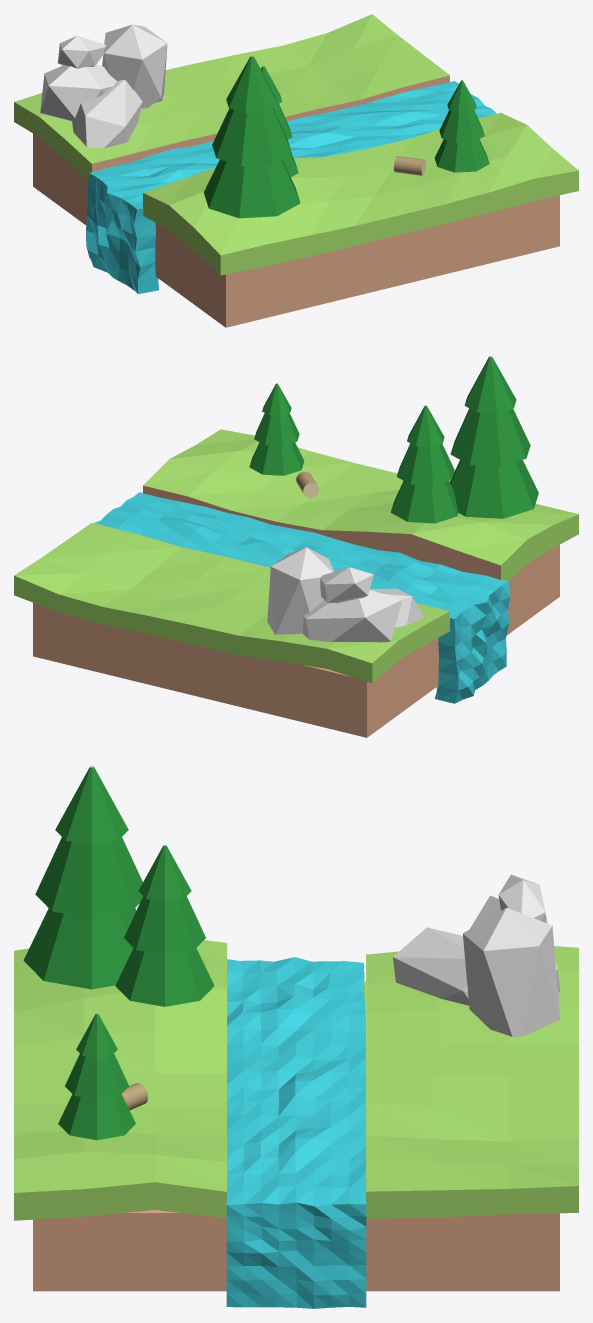
The model's file is campfire.glb.
3 views of the same model, one above another, from view 1: azimuth 30°, elevation 25°; view 2: azimuth 150°, elevation 25°; view 3: azimuth 270°, elevation 25° (orthographic). The views are drawn at different scales.
Parts seen in each view (by area): view 1: Cube, Cube.003, Icosphere.002, Icosphere.001, Cube.002, Icosphere, Icosphere.003, Cube.001, Cylinder; view 2: Cube, Cube.003, Cube.001, Icosphere.002, Icosphere, Cube.002, Icosphere.003, Icosphere.001; view 3: Cube, Cube.003, Icosphere.002, Cube.001, Cube.002, Icosphere.001, Icosphere.003.
Boxes of the visible parts, bbox=[...] form: Cube: bbox=[14, 14, 578, 327]; Cube.003: bbox=[204, 55, 300, 218]; Icosphere.002: bbox=[102, 24, 167, 108]; Icosphere.001: bbox=[72, 80, 142, 148]; Cube.002: bbox=[434, 80, 489, 172]; Icosphere: bbox=[40, 64, 116, 121]; Icosphere.003: bbox=[57, 35, 105, 68]; Cube.001: bbox=[261, 65, 298, 176]; Cylinder: bbox=[394, 156, 425, 175]; Cube: bbox=[14, 429, 578, 737]; Cube.003: bbox=[450, 356, 538, 518]; Cube.001: bbox=[390, 405, 458, 523]; Icosphere.002: bbox=[267, 547, 334, 634]; Icosphere: bbox=[302, 590, 402, 642]; Cube.002: bbox=[249, 383, 304, 475]; Icosphere.003: bbox=[320, 567, 373, 603]; Icosphere.001: bbox=[369, 588, 423, 627]; Cube: bbox=[14, 940, 578, 1308]; Cube.003: bbox=[23, 766, 142, 989]; Icosphere.002: bbox=[462, 907, 560, 1036]; Cube.001: bbox=[115, 845, 214, 1006]; Cube.002: bbox=[58, 1013, 135, 1140]; Icosphere.001: bbox=[393, 927, 468, 1005]; Icosphere.003: bbox=[498, 874, 546, 922].
Size of the model in its own units: 11.24 by 7.38 by 10.66.
